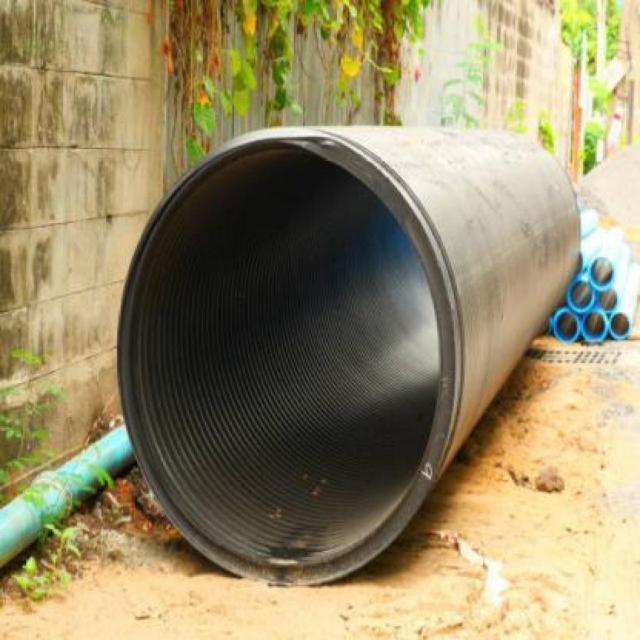pipe: (116, 133, 458, 586), (567, 274, 597, 315), (552, 306, 583, 345), (587, 253, 617, 292), (582, 308, 610, 345), (591, 283, 621, 317), (608, 310, 633, 343)
